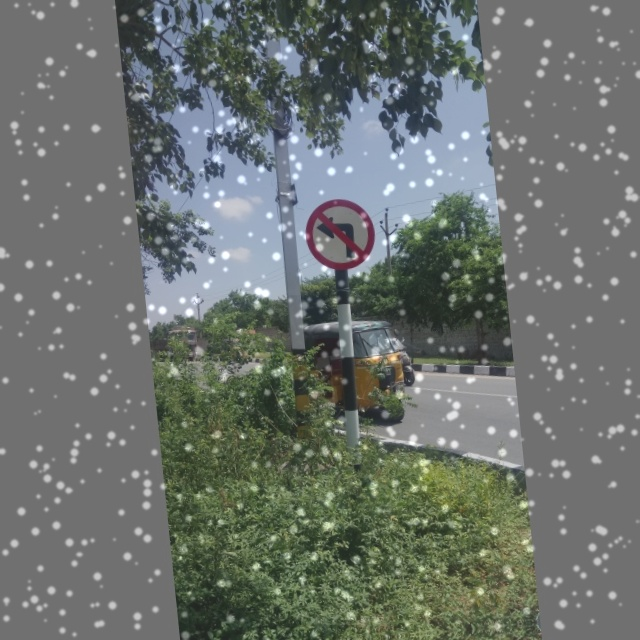Left_Turn_Prohibited: (300, 194, 382, 276)
